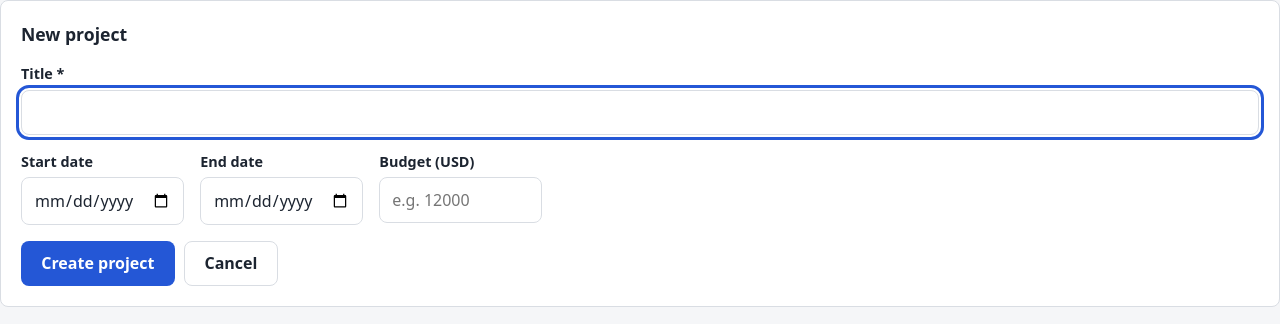
Scenario: ProjectForm › disables the form while saving and cancels
The width and height of the screenshot is (1280, 324).
Type "X" into the field labelled "Title *" at (640, 112), box [21,90,1259,135]
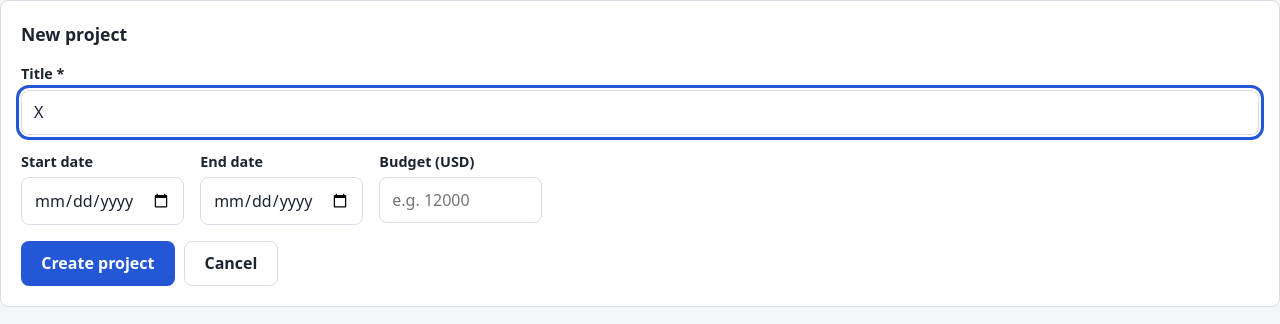
Click the button "Create project" at (98, 263), box [21,241,175,286]
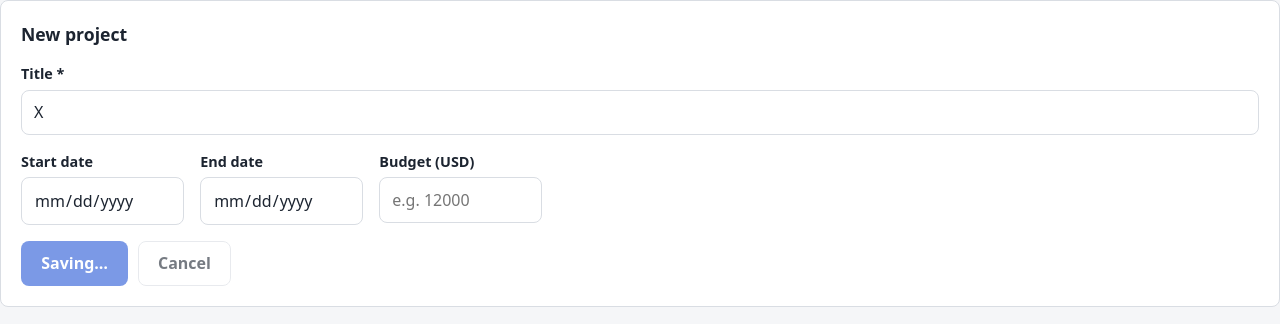
Expected: the field labelled "Title *" is disabled, [21,90,1259,135]
Expected: the button "Saving…" is disabled, [21,241,128,286]
